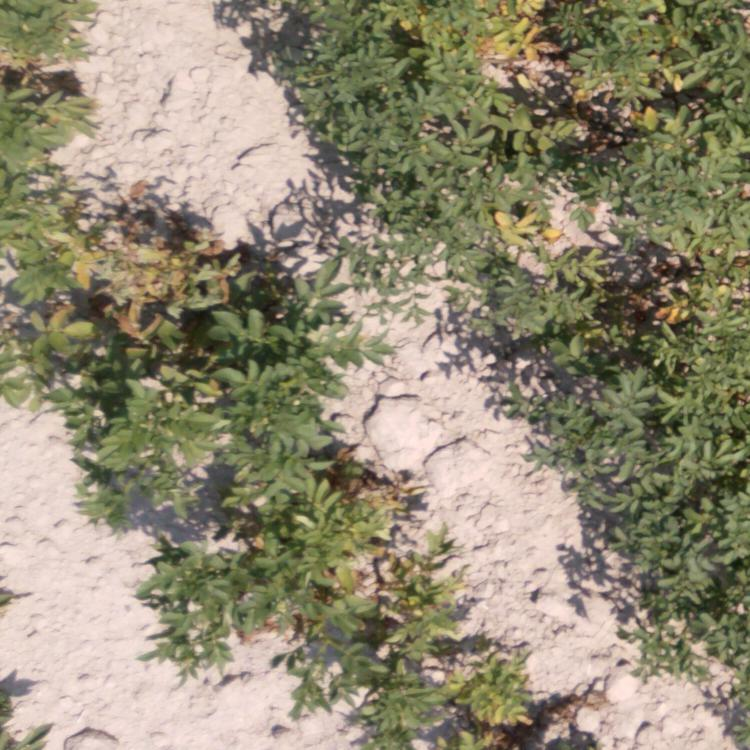healthy: (521, 339, 641, 581), (658, 356, 750, 662), (290, 85, 452, 228), (217, 1, 401, 86), (352, 237, 464, 323)
stressed: (465, 91, 750, 247), (149, 490, 422, 645), (190, 229, 347, 487), (82, 189, 189, 506), (413, 2, 750, 88), (306, 648, 564, 750), (474, 258, 750, 342), (1, 182, 99, 413), (1, 1, 98, 178)
